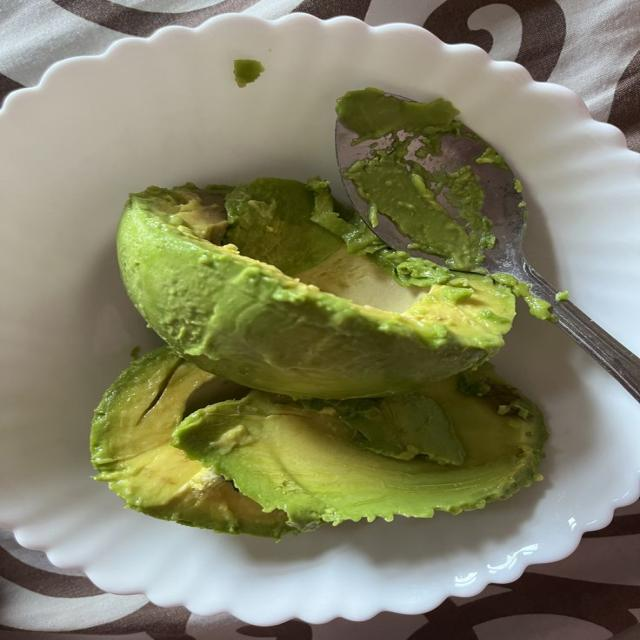avocado: (118, 188, 514, 398), (173, 365, 546, 527), (91, 348, 291, 538), (300, 394, 465, 464), (225, 179, 341, 275), (234, 59, 264, 88)
